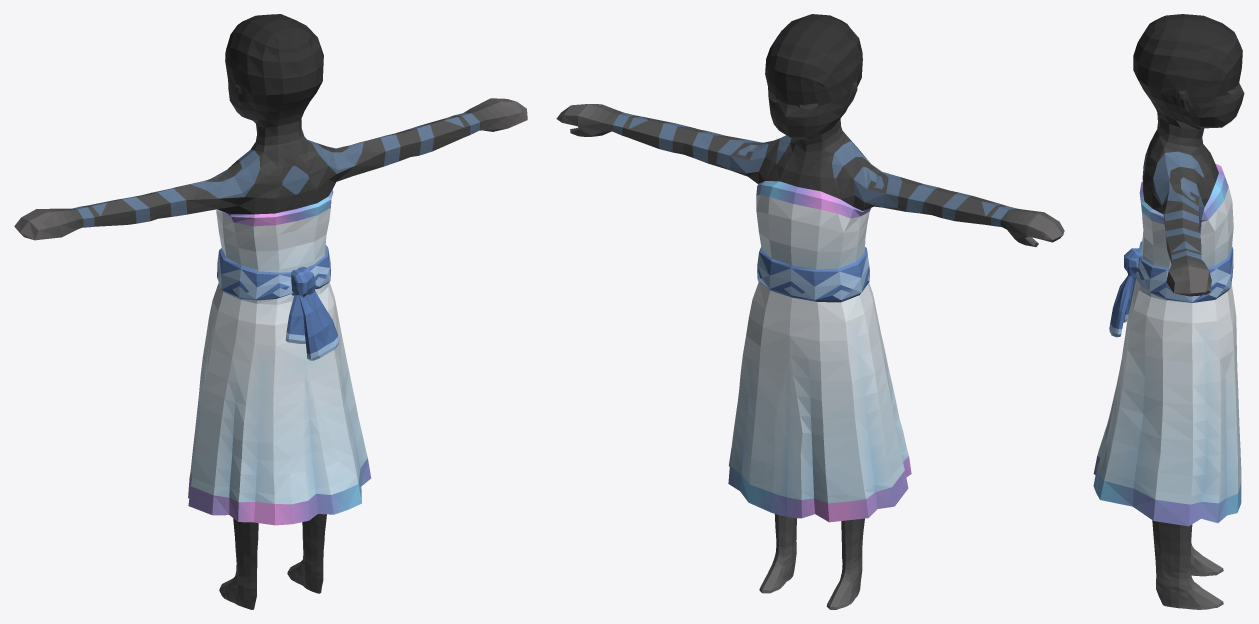
Rendered from CharSkyKid_Body_AP23CellistDress.glb.
3 renders of one model, left to right at view 1: azimuth 30°, elevation 25°; view 2: azimuth 150°, elevation 25°; view 3: azimuth 270°, elevation 25°, orthographic.
Parts seen in each view (by area): view 1: CharSkyKid_Body_AP23CellistDress; view 2: CharSkyKid_Body_AP23CellistDress; view 3: CharSkyKid_Body_AP23CellistDress.
Boxes of the visible parts, x1,y1,x2,y2 form: CharSkyKid_Body_AP23CellistDress: (14,14,527,609); CharSkyKid_Body_AP23CellistDress: (556,14,1064,609); CharSkyKid_Body_AP23CellistDress: (1093,14,1244,609).
Size of the model in its own units: 13.83 by 14.94 by 3.58.
Materials: 1 (1 with a texture image).
